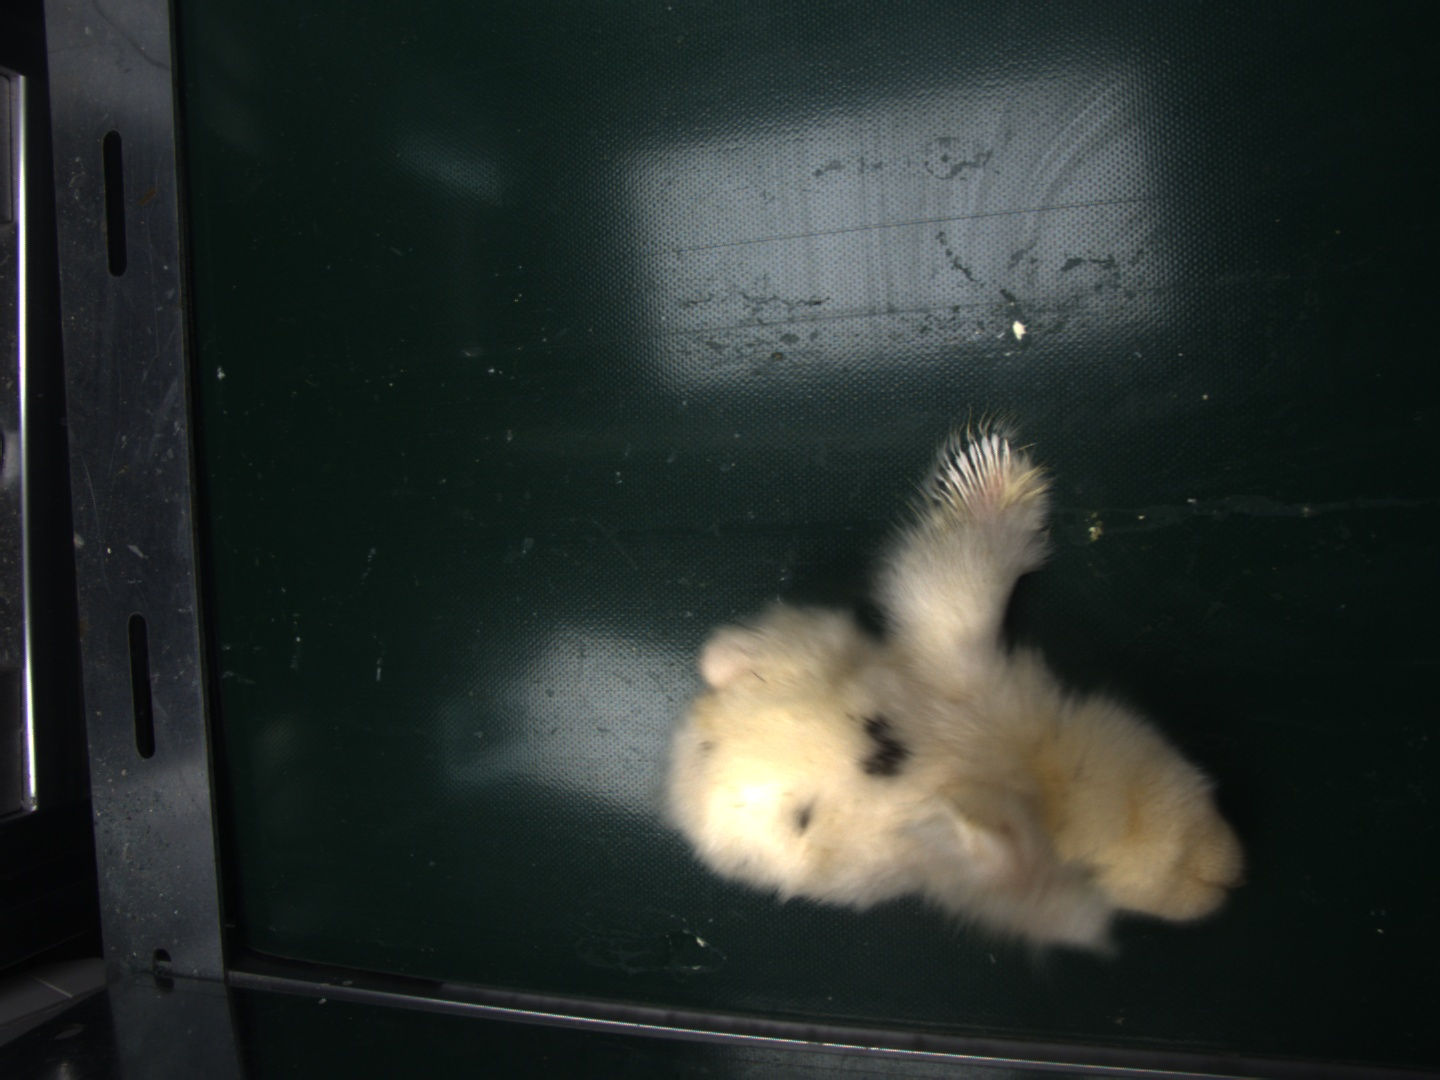male: (932, 432, 1026, 511)
